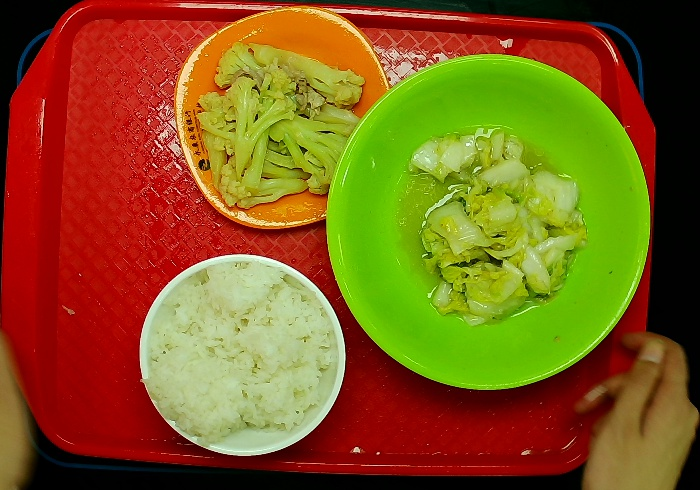YKMZ-Fan_Wan: (140, 253, 347, 457)
YKMZ-Ju_Se_Fang_Die: (173, 5, 390, 235)
YKMZ-Lv_Se_Tang_Wan: (321, 52, 653, 392)
